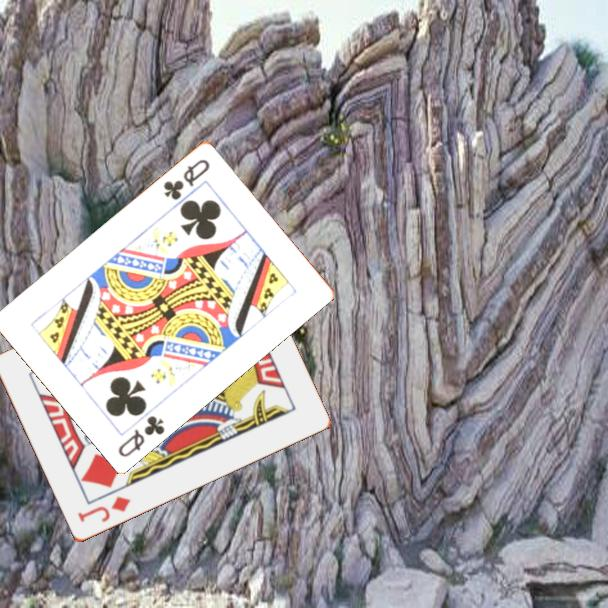c12: (114, 412, 168, 460), (160, 155, 213, 203)
d11: (74, 493, 133, 526)
